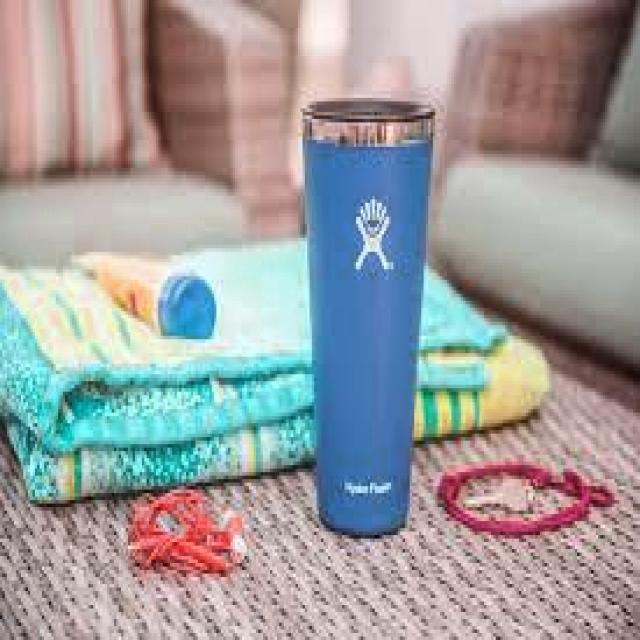bottle: (295, 103, 433, 540)
